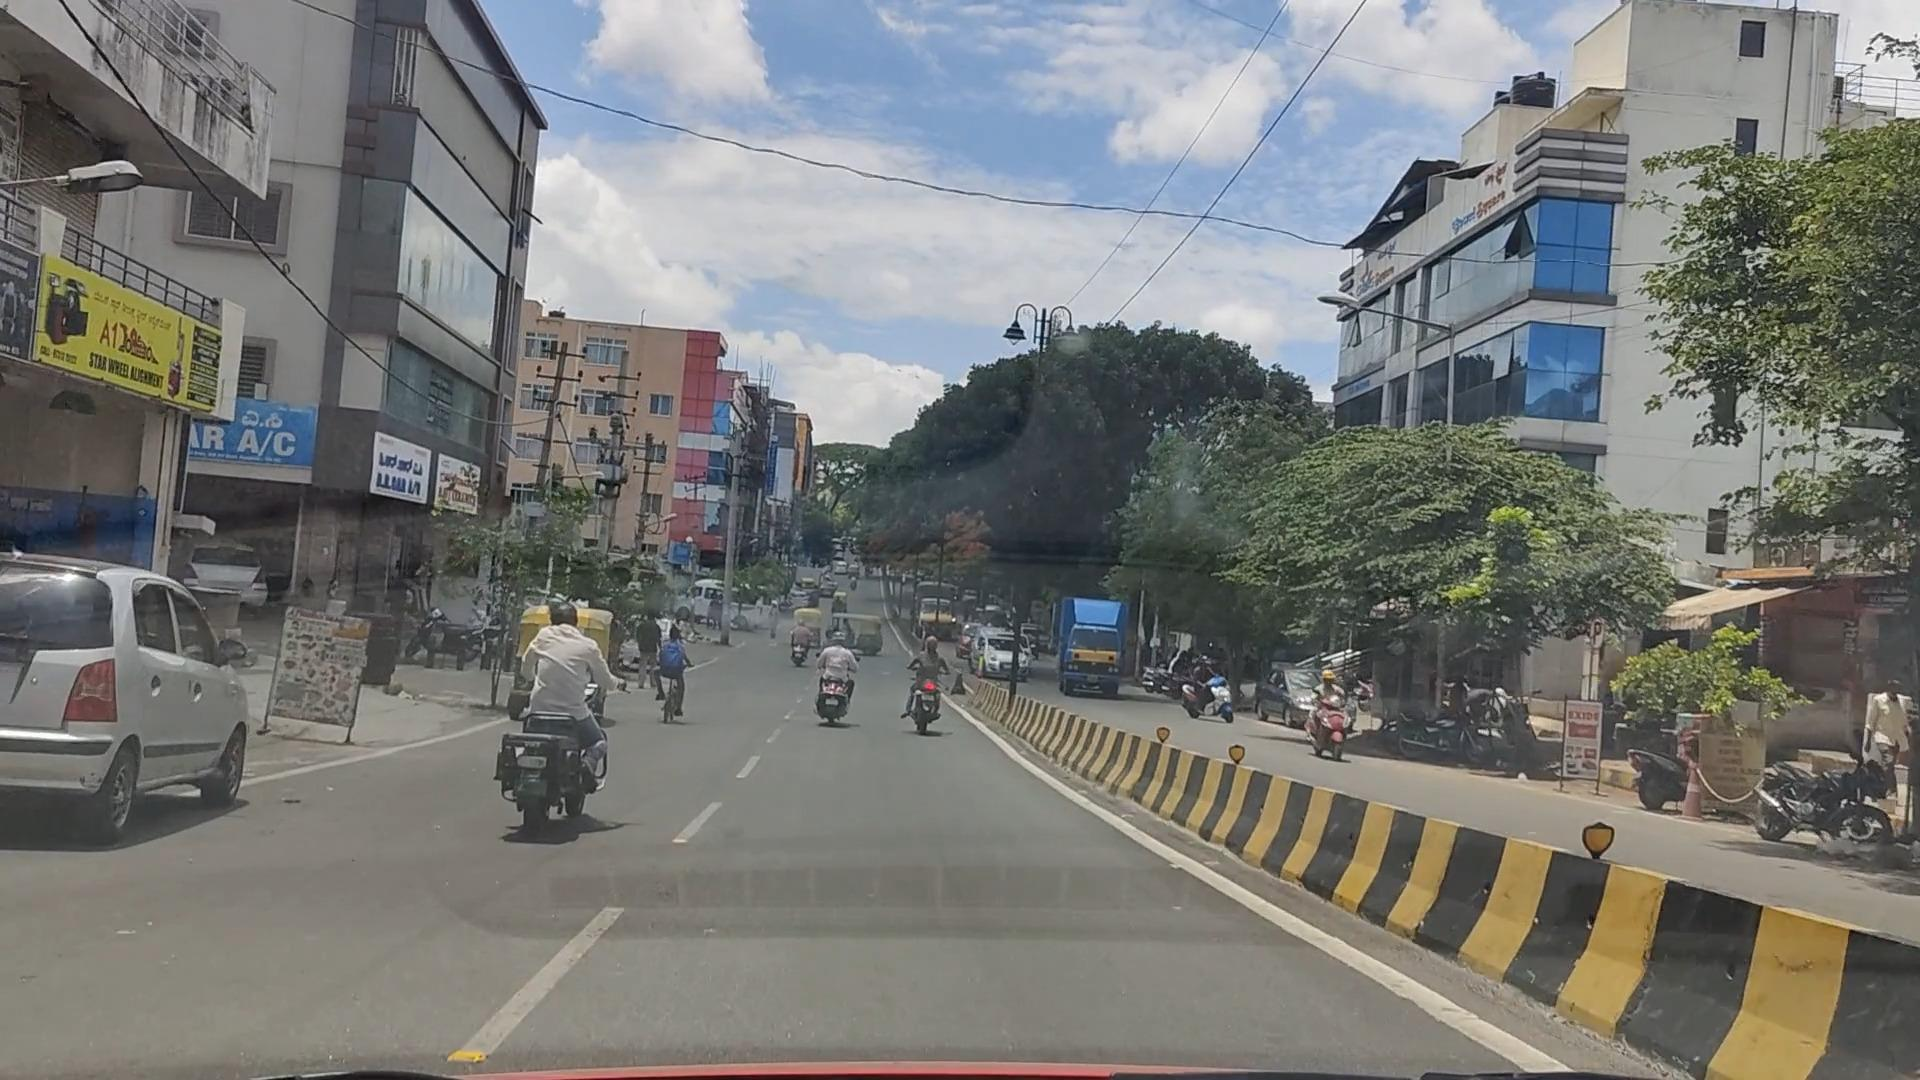LMV: (5, 550, 260, 836), (421, 558, 616, 835)
